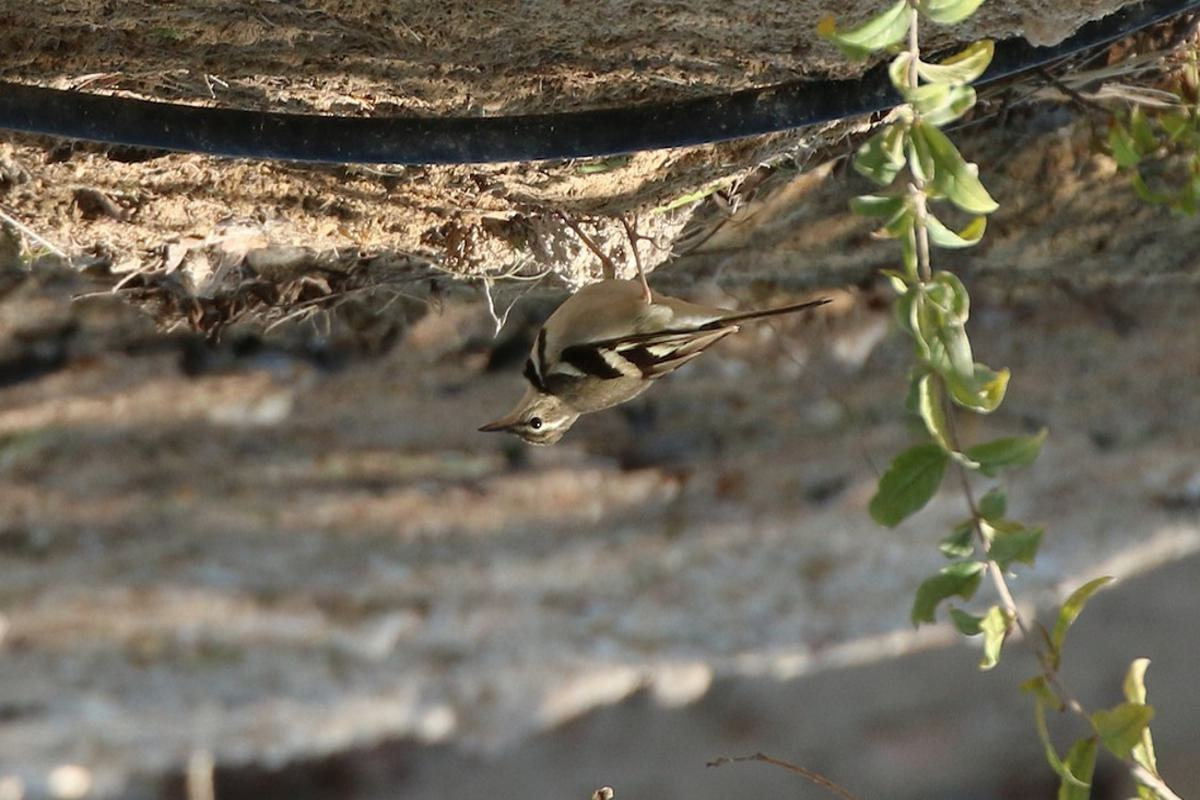wagtail: (468, 256, 776, 463)
